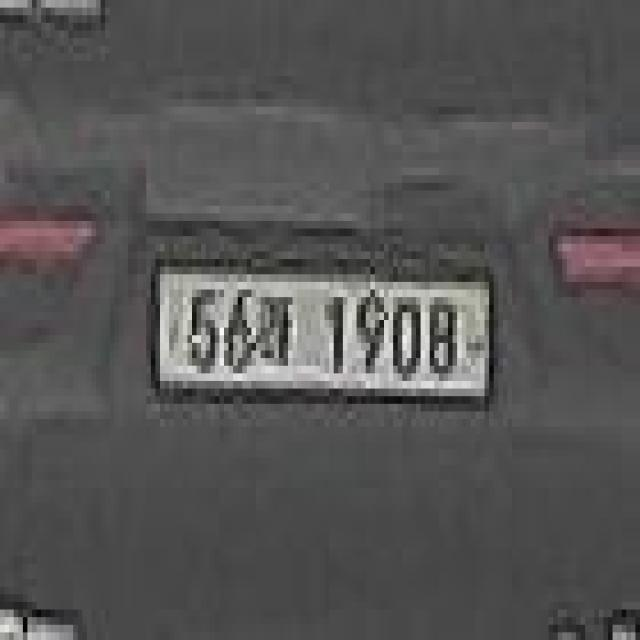illegal_plate: (148, 252, 498, 418)
